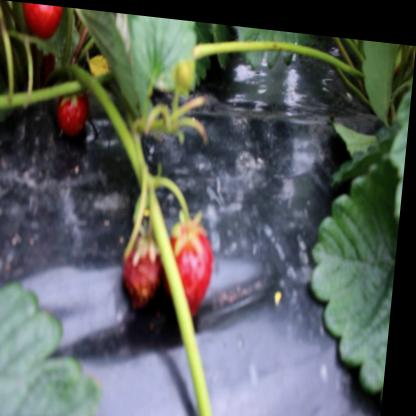ripe: (165, 218, 225, 318), (117, 225, 170, 310), (12, 1, 75, 48), (54, 82, 97, 141)
